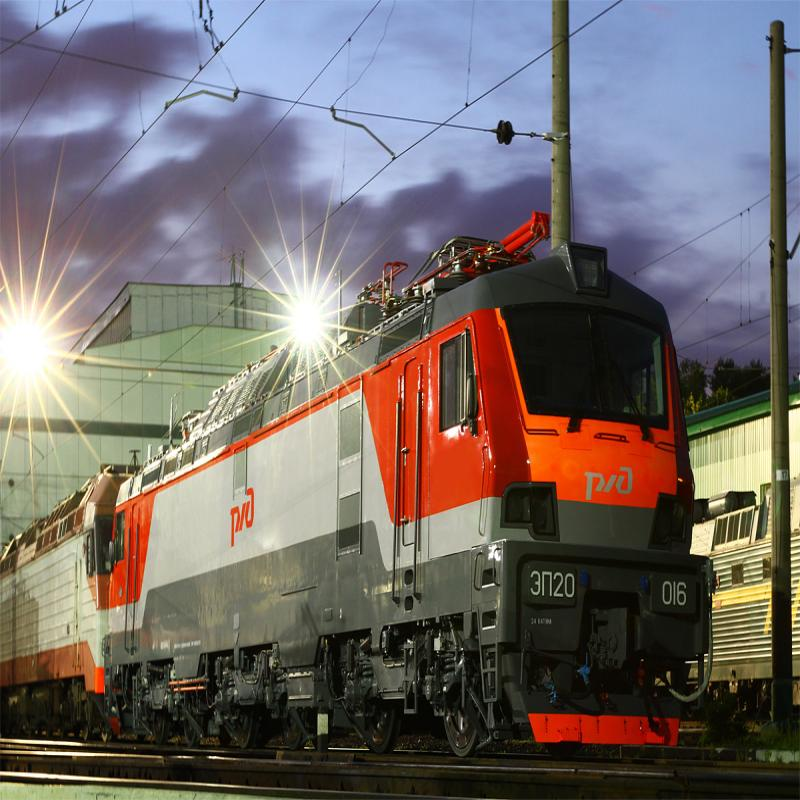train: (111, 193, 723, 767), (7, 463, 138, 742)
